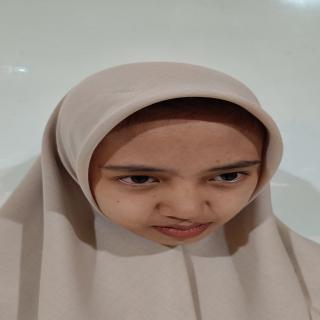Marah: (97, 109, 267, 246)
